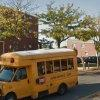Bus: (2, 48, 82, 94)
